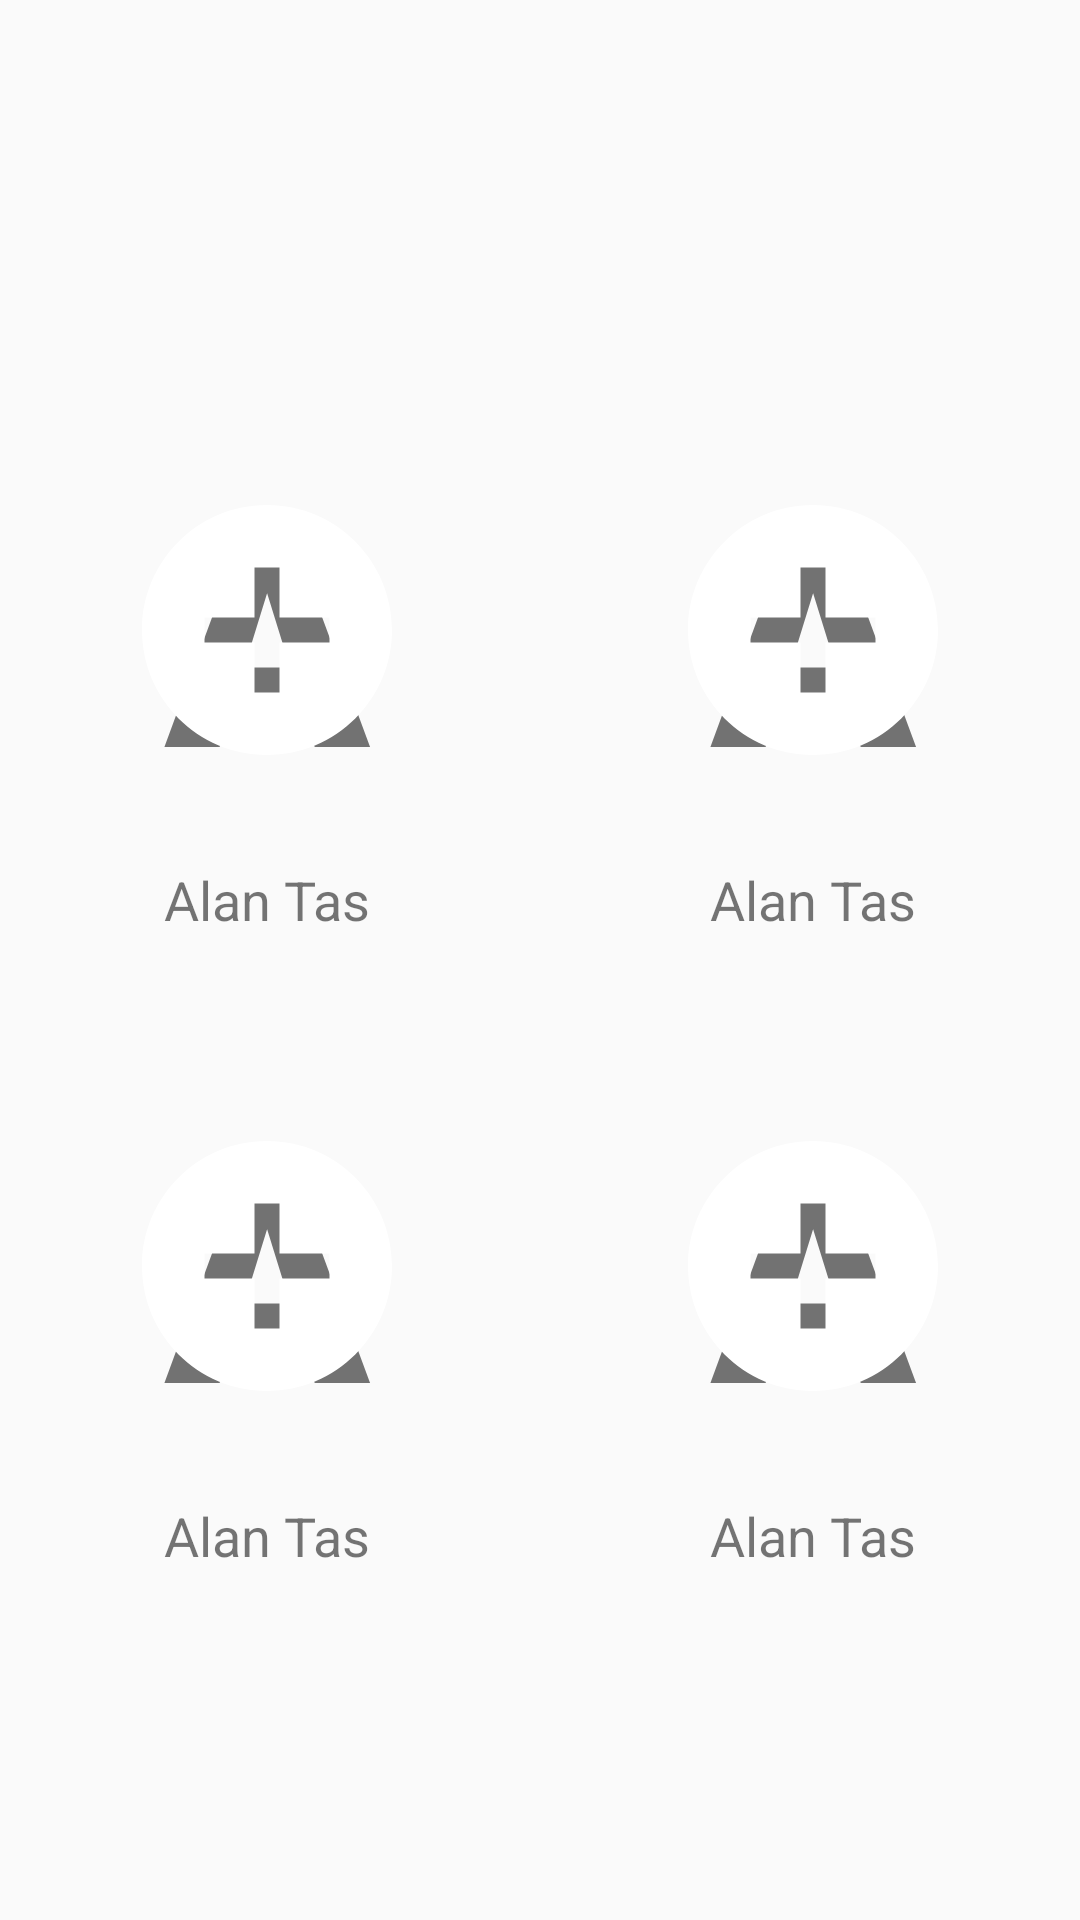

Icon click points for this 1080px x 1920px phone screenshot, format (x,y):
add: (267,657), (813,657), (267,1293), (813,1293)
